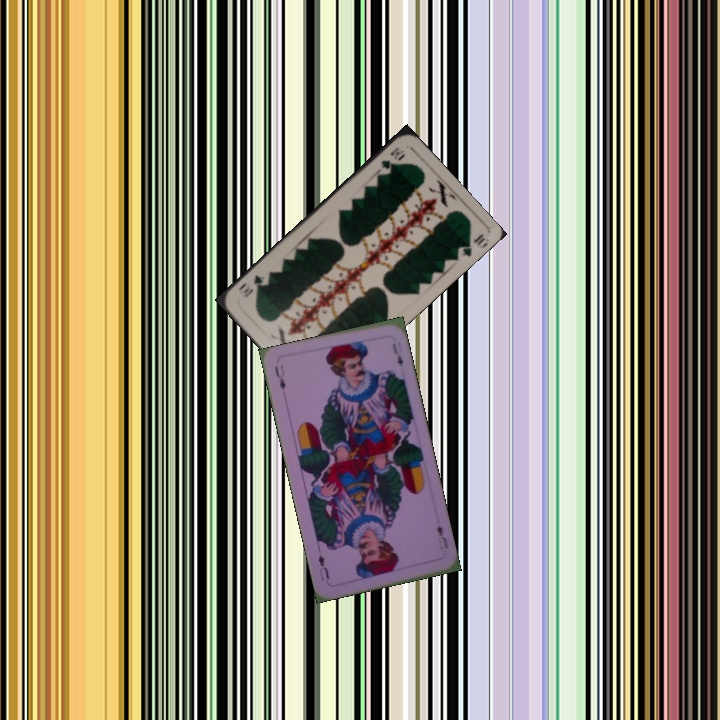EU: (271, 361, 288, 393), (433, 521, 451, 551)
G10: (377, 143, 407, 172)
